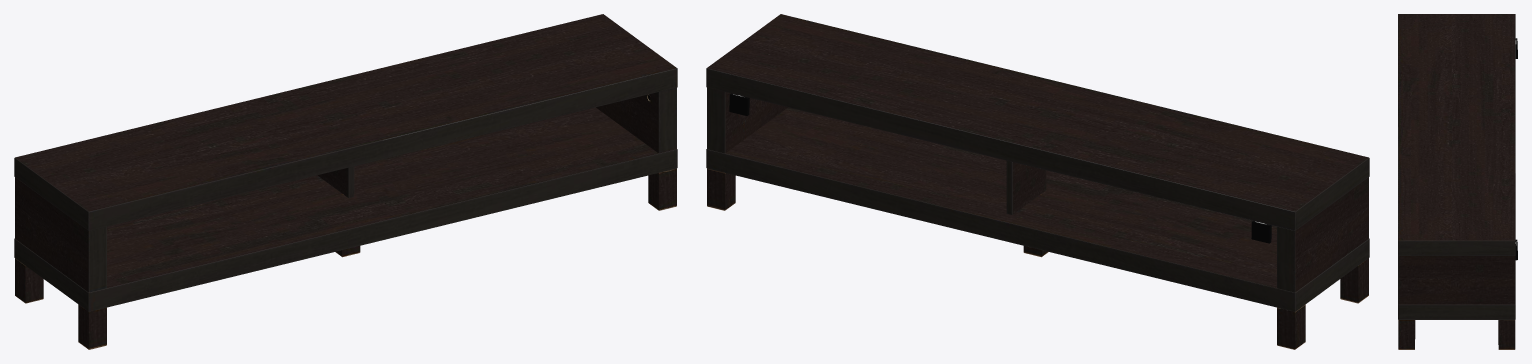
The model's file is lack_szafka_pod_tv_20498904.glb.
3 views of the same model, side by side, from view 1: azimuth 30°, elevation 25°; view 2: azimuth 150°, elevation 25°; view 3: azimuth 270°, elevation 25° (orthographic). The views are drawn at different scales.
Visible parts, largest first — view 1: lack_szafka_pod_tv_20498904; view 2: lack_szafka_pod_tv_20498904; view 3: lack_szafka_pod_tv_20498904.
Boxes of the visible parts, bbox=[...] form: lack_szafka_pod_tv_20498904: bbox=[14, 14, 677, 349]; lack_szafka_pod_tv_20498904: bbox=[706, 14, 1369, 349]; lack_szafka_pod_tv_20498904: bbox=[1398, 14, 1517, 349].
Bounding box in the file's own units: 1.6 × 0.3603 × 0.357.
1 material, 1 textured.
